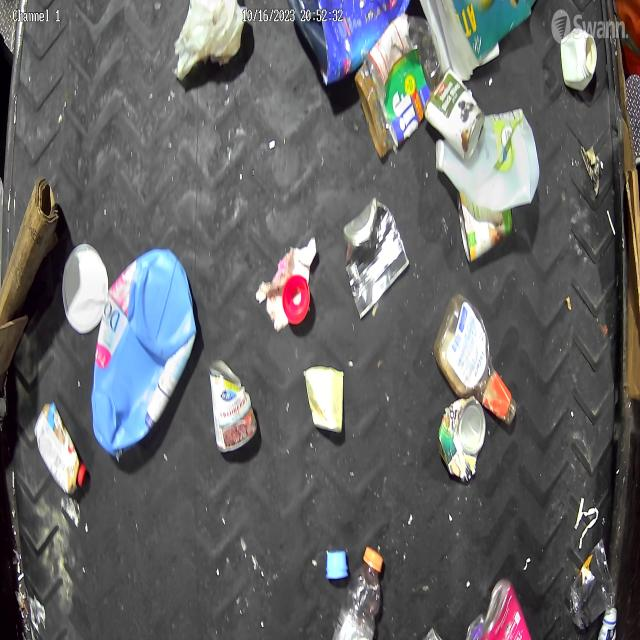can: (343, 194, 410, 320), (423, 67, 486, 162), (209, 356, 257, 453), (439, 396, 487, 483)
milk_jug: (436, 106, 540, 212)
non_white_jug: (91, 247, 198, 459)
plastic_bottle: (331, 545, 385, 640)
